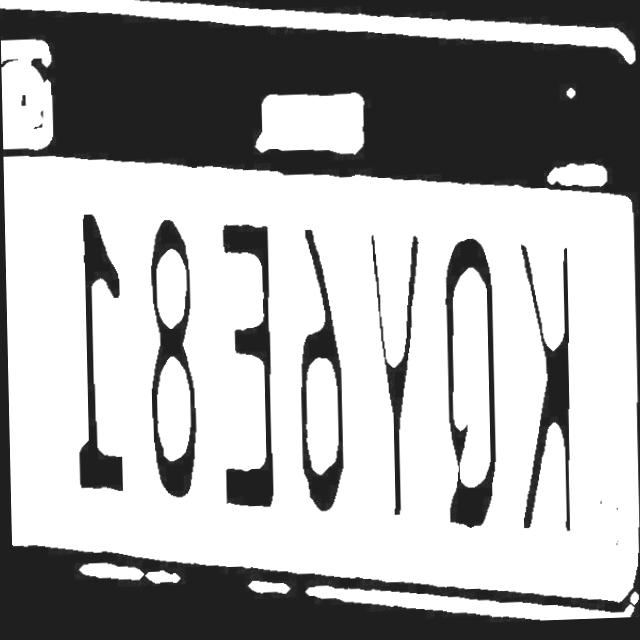1: (58, 208, 130, 501)
6: (283, 228, 351, 524)
8: (133, 217, 200, 505)
e: (203, 217, 280, 523)
k: (509, 244, 579, 542)
q: (426, 235, 504, 536)
y: (352, 233, 424, 522)
